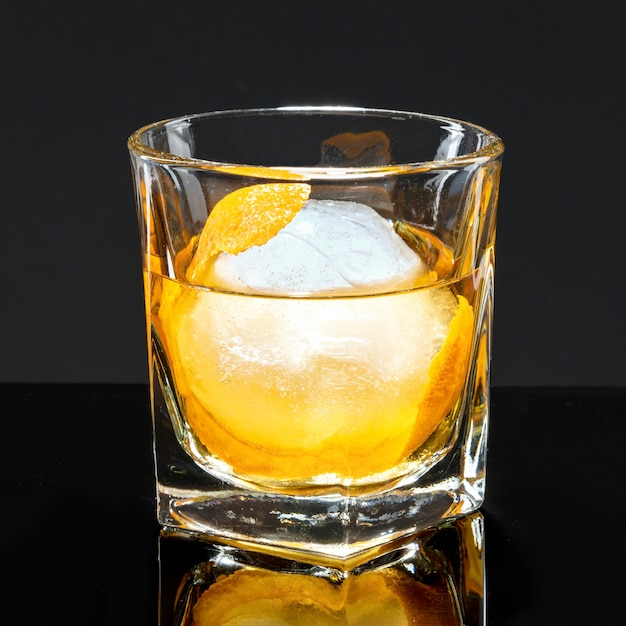alcohol: (126, 102, 508, 570)
